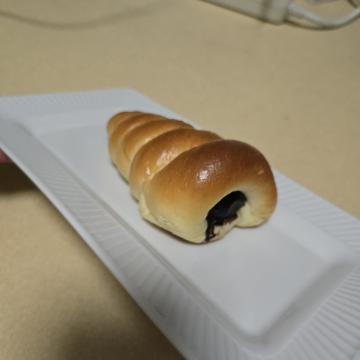cream horn: (92, 71, 264, 270)
